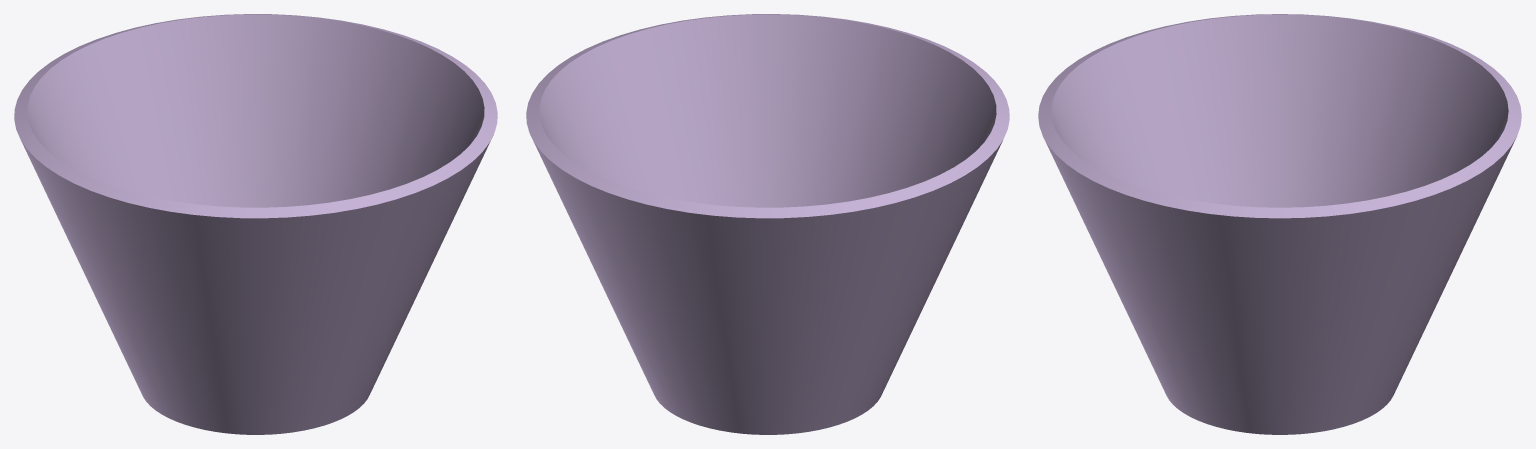
3 views of the same model, side by side, from view 1: azimuth 30°, elevation 25°; view 2: azimuth 150°, elevation 25°; view 3: azimuth 270°, elevation 25° (orthographic).
Visible parts, largest first — view 1: split_parent_0; view 2: split_parent_0; view 3: split_parent_0.
Part boxes in pixels (x1=…): split_parent_0: x1=14, y1=14, x2=497, y2=434; split_parent_0: x1=526, y1=14, x2=1009, y2=434; split_parent_0: x1=1038, y1=14, x2=1521, y2=434.
Size of the model in its own units: 1 by 0.6272 by 1.
